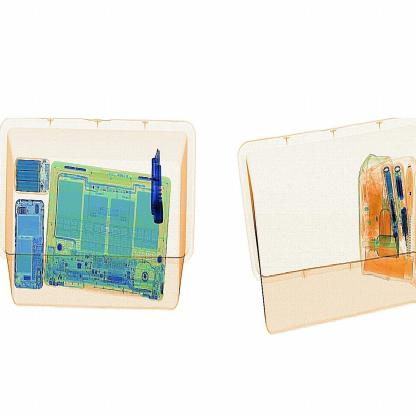pliers: (148, 145, 168, 237)
